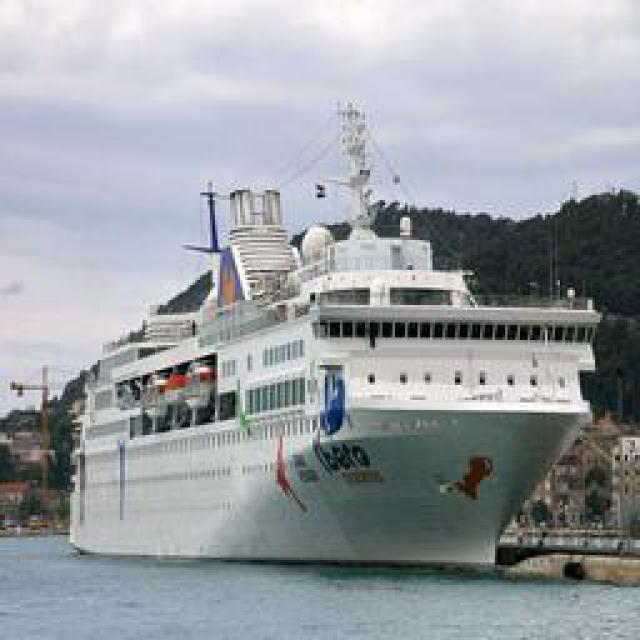Ship: (58, 105, 606, 565)
